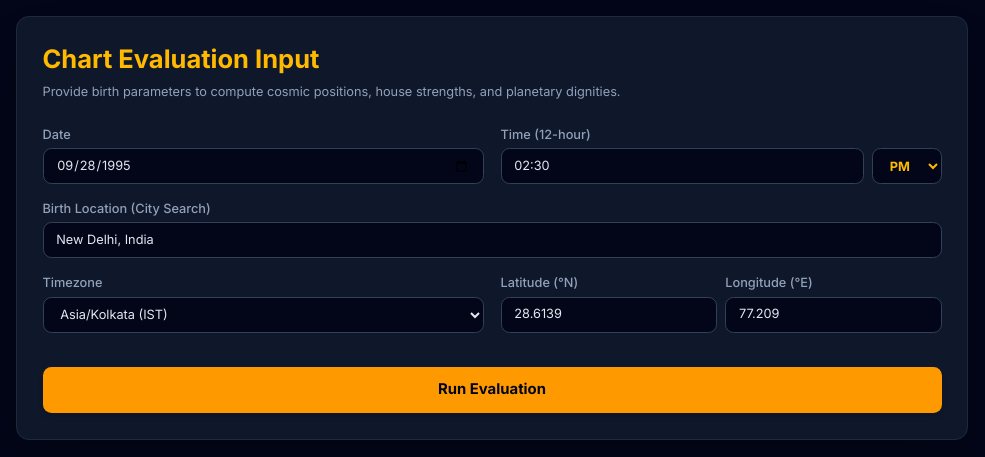
Test: EvaluatePage › selecting a geocoded result updates coordinates and location
Replace the text in the field with placeholder "Search city (e.g. New Delhi, London, Tokyo)..." below "Birth Location (City Search)" with "Lond" at (492, 240), box [42,222,942,258]
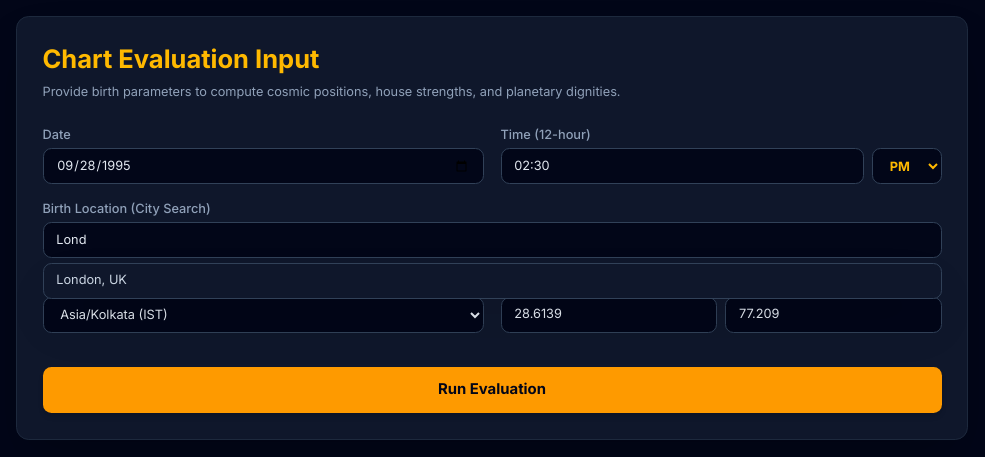
Expected: the list item is shown
Click the list item.
click(92, 280)  # box [56,272,127,287]
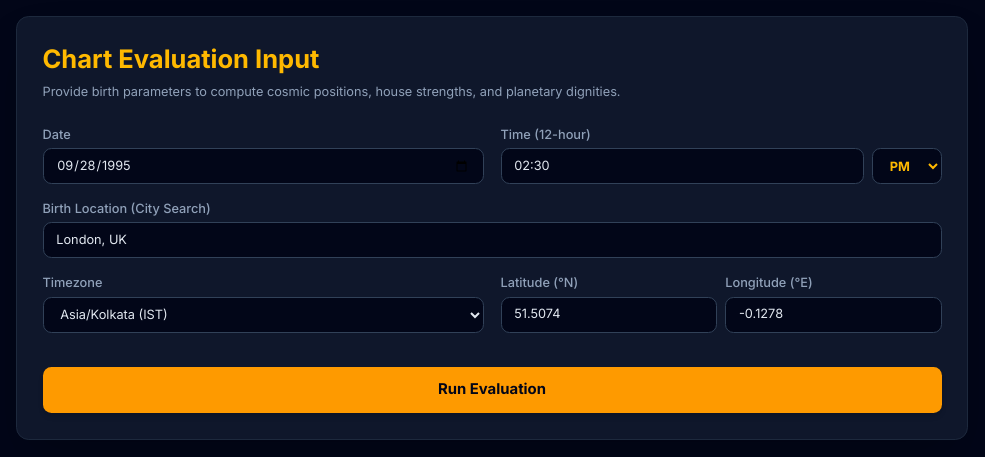
Expected: the number field showing "51.5074" below "Latitude (°N)" is shown, [500,297,717,333]
Expected: the number field showing "-0.1278" below "Longitude (°E)" is shown, [725,297,942,333]
Expected: the field showing "London, UK" below "Birth Location (City Search)" is shown, [42,222,942,258]
